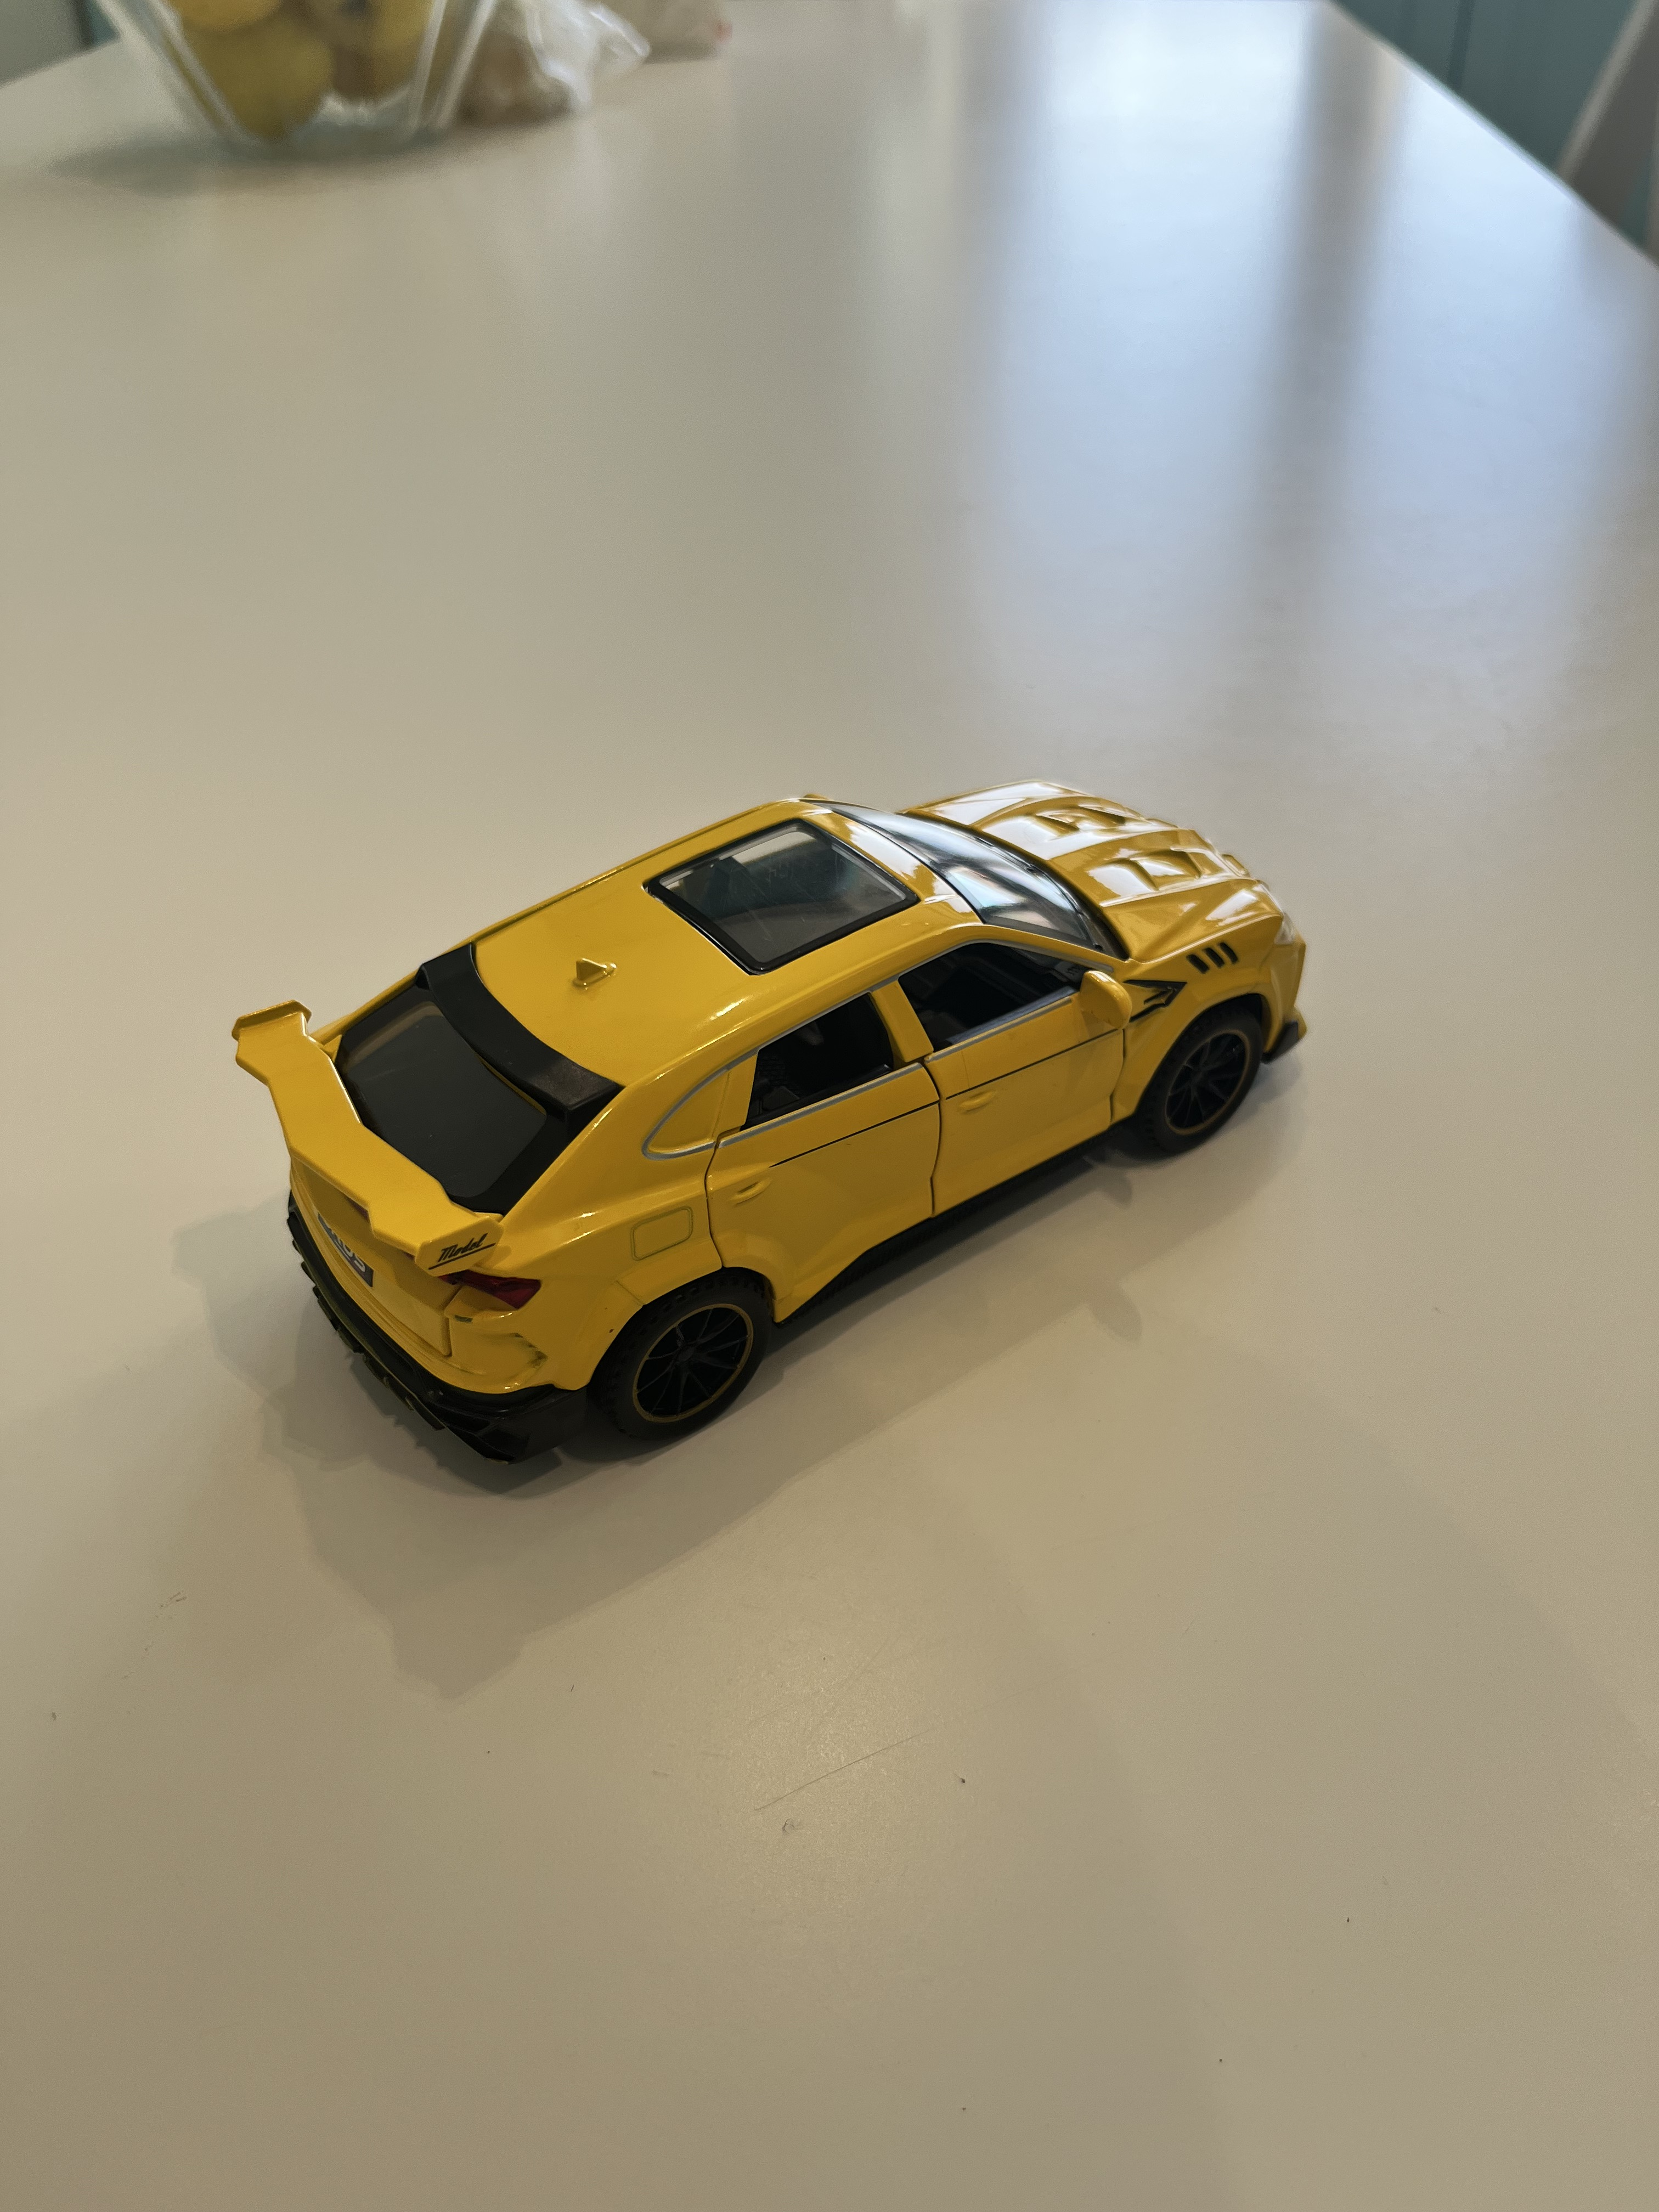lambo: (214, 765, 1338, 1496)
